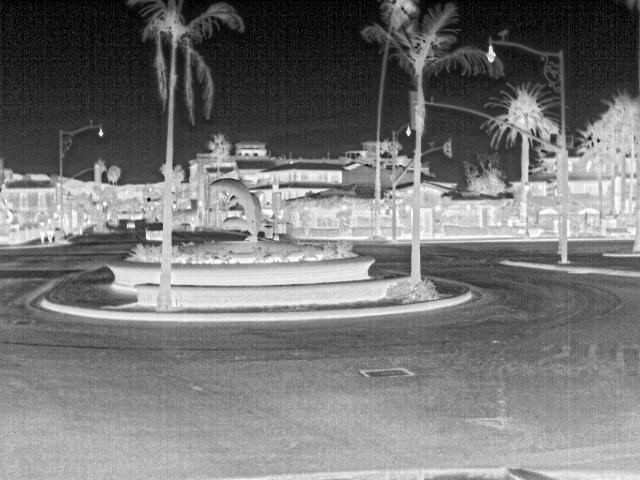car: (144, 221, 164, 240), (125, 218, 138, 230)
person: (45, 216, 58, 243), (36, 219, 48, 245), (189, 214, 199, 232)
